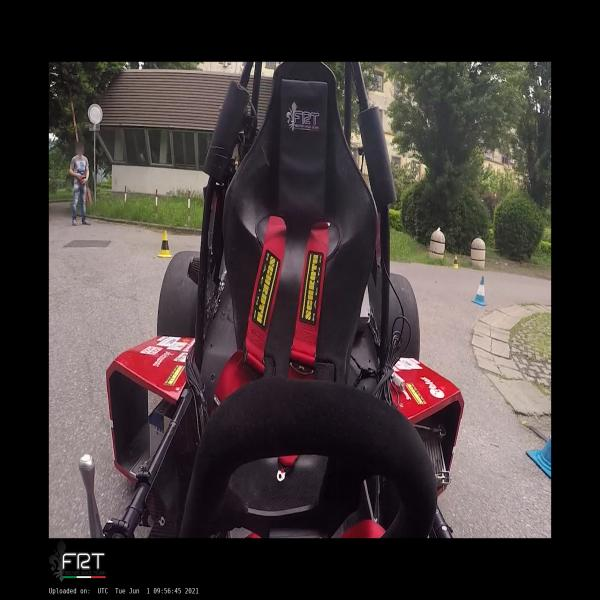blue_cone: (526, 436, 551, 479), (471, 276, 487, 306)
yellow_cone: (157, 230, 172, 258), (452, 255, 460, 268)
